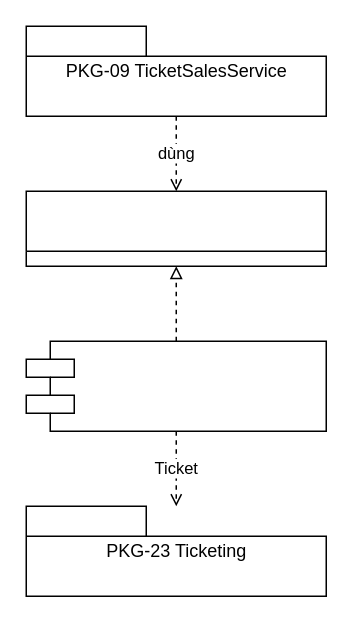
The diagram is 353 pixels wide and 623 high, and some of its shapes have lost their labels. Here are the shapes that lost their labels. From the top down, the box of each, then its label:
(25, 190, 326, 266): «interface» IF-06 ITicketPrinter
(25, 340, 326, 431): «subsystem» SS-04 TicketPrinting
